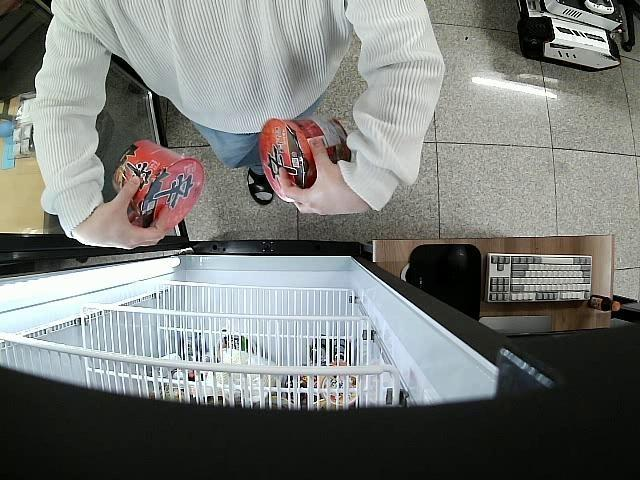01_ShinRamen_L: (112, 140, 203, 235), (262, 117, 352, 204)
